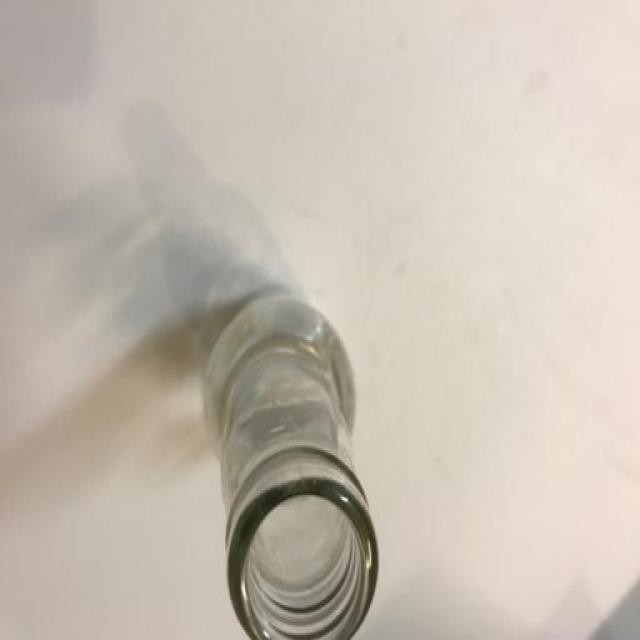glass: (205, 293, 381, 640)
